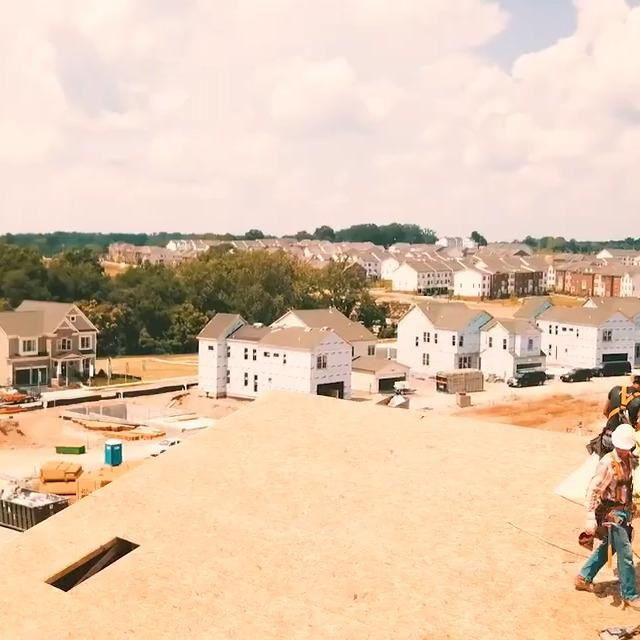Hardhat: (612, 423, 636, 449), (631, 367, 640, 392)
NO-Mask: (617, 451, 629, 457)
NO-Safety Vest: (603, 453, 633, 507), (608, 385, 640, 428)
Person: (573, 423, 640, 611), (595, 368, 640, 466)
van: (506, 368, 546, 388), (592, 360, 632, 378), (561, 367, 594, 383)
